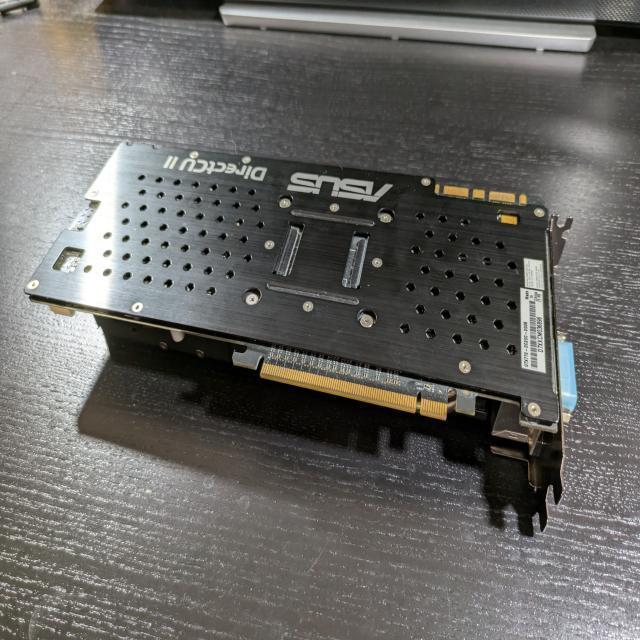GPU: (22, 129, 574, 508)
